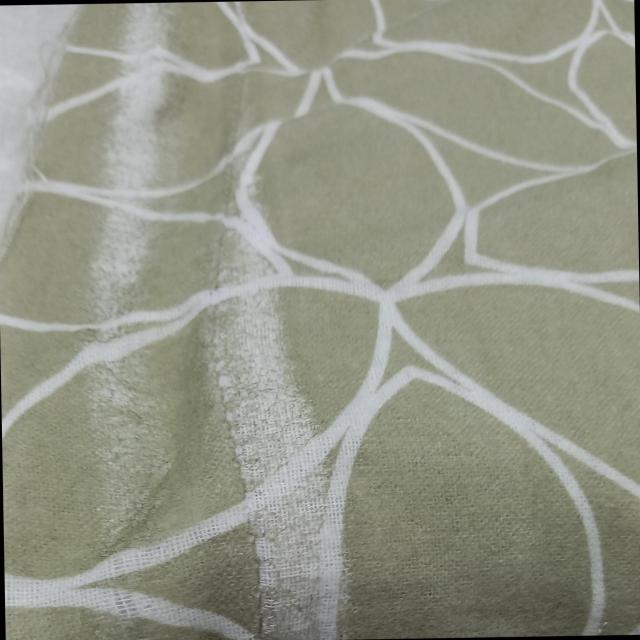selvet: (207, 93, 346, 640), (100, 3, 180, 572), (0, 4, 59, 244)
